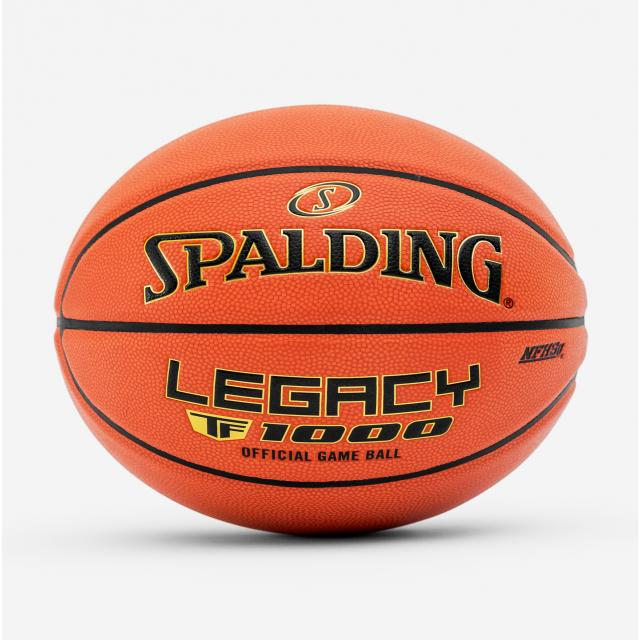non_orange: (66, 105, 565, 565)
